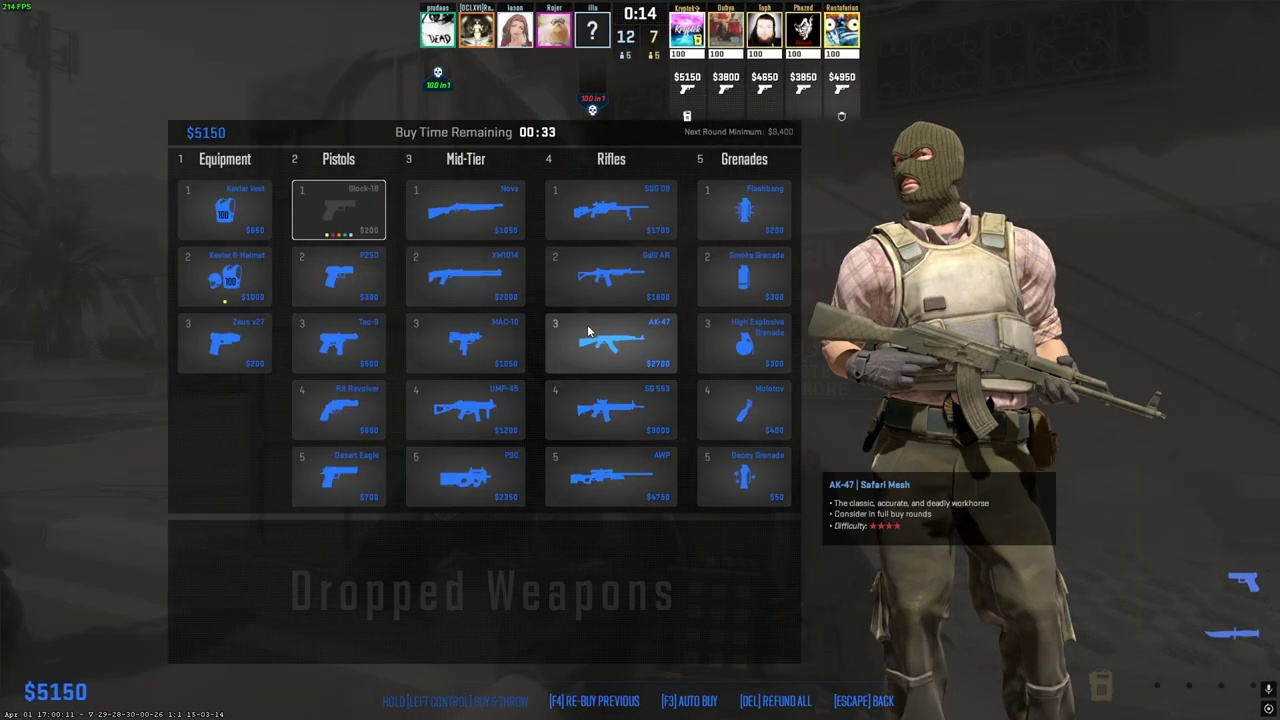Terrorist: (843, 121, 1077, 720)
